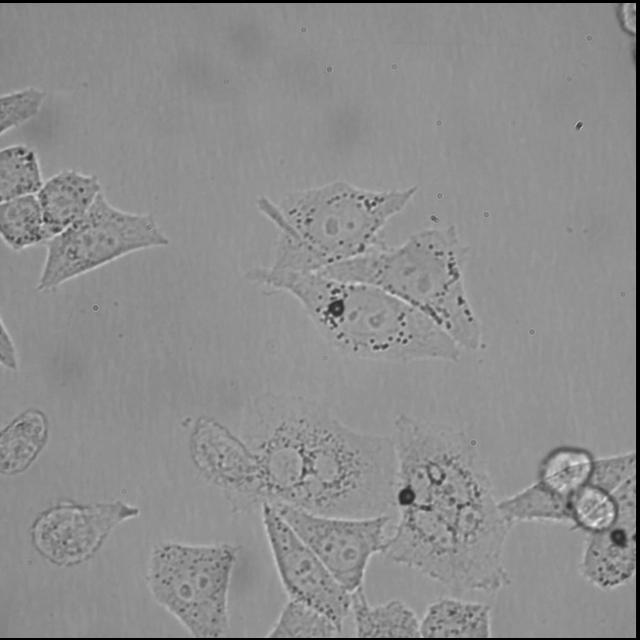microbeads: (326, 298, 346, 316), (399, 484, 417, 504)
